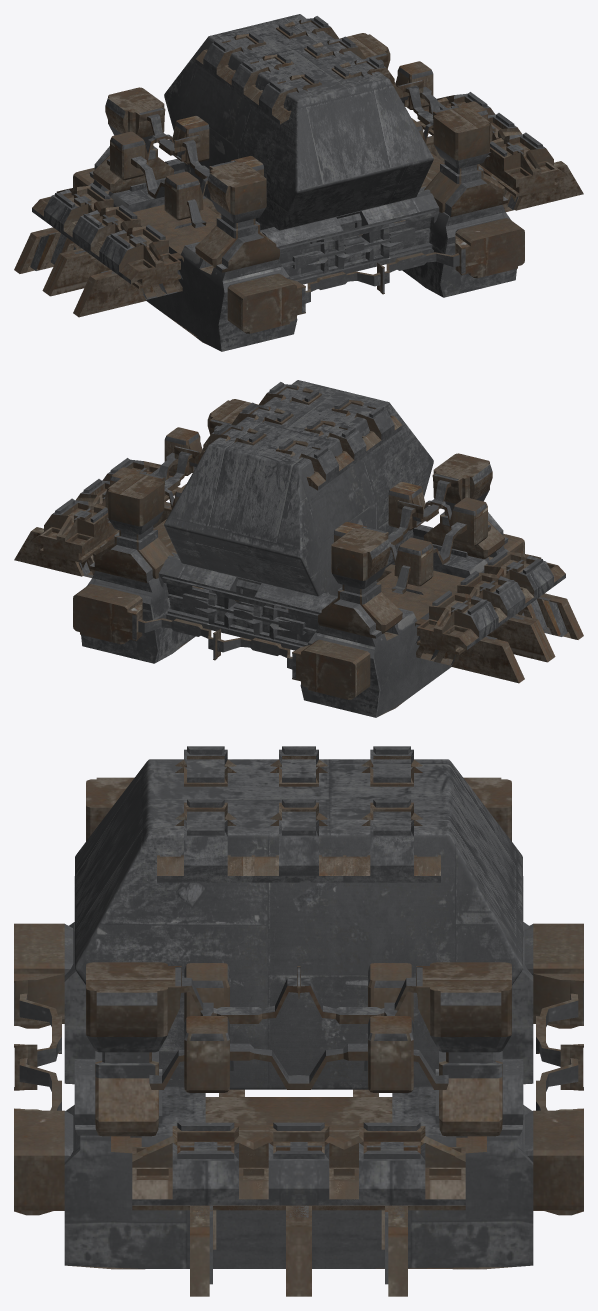
File: Schmelze.gltf
3 views of the same model, one above another, from view 1: azimuth 30°, elevation 25°; view 2: azimuth 150°, elevation 25°; view 3: azimuth 270°, elevation 25° (orthographic). The views are drawn at different scales.
Parts seen in each view (by area): view 1: Schmelze, Schmelze_Top; view 2: Schmelze, Schmelze_Top; view 3: Schmelze, Schmelze_Top.
Boxes of the visible parts, bbox=[...] form: Schmelze: bbox=[14, 33, 583, 351]; Schmelze_Top: bbox=[164, 14, 433, 230]; Schmelze: bbox=[14, 399, 583, 717]; Schmelze_Top: bbox=[164, 380, 433, 596]; Schmelze: bbox=[14, 777, 583, 1296]; Schmelze_Top: bbox=[75, 746, 522, 1089].
Size of the model in its own units: 14.98 by 6.01 by 8.71.
Materials: 2 (2 with a texture image).
